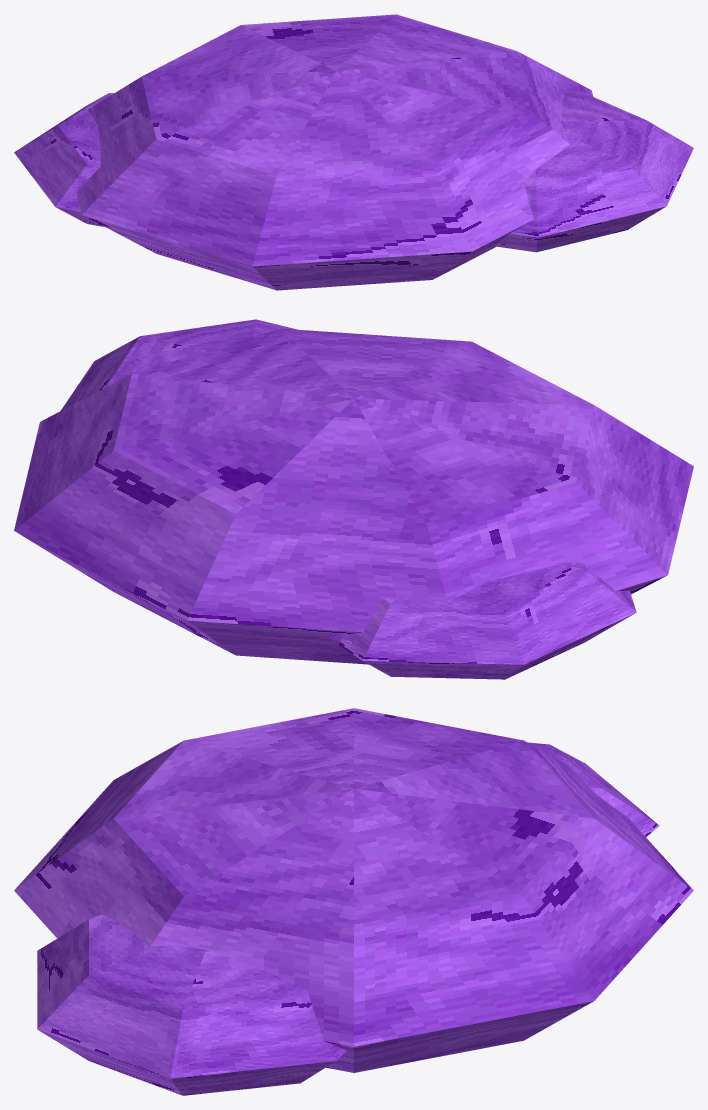
File: musgo_arcano.glb
3 renders of one model, top to bottom at view 1: azimuth 30°, elevation 25°; view 2: azimuth 150°, elevation 25°; view 3: azimuth 270°, elevation 25°, orthographic. The views are drawn at different scales.
Parts seen in each view (by area): view 1: musgo_arcano; view 2: musgo_arcano; view 3: musgo_arcano.
Part boxes in pixels (x1,y1,x2,y2): musgo_arcano: (14, 14, 693, 290); musgo_arcano: (14, 319, 693, 679); musgo_arcano: (14, 708, 693, 1095).
Size of the model in its own units: 1.01 by 0.2888 by 0.874.
Materials: 1 (1 with a texture image).
